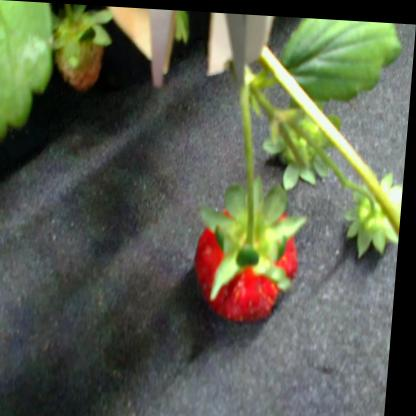ripe: (194, 202, 305, 319)
